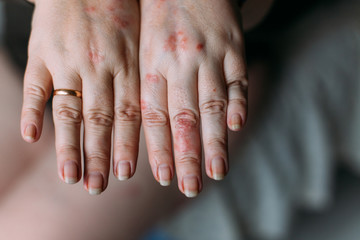Diseased: (74, 3, 220, 154)
